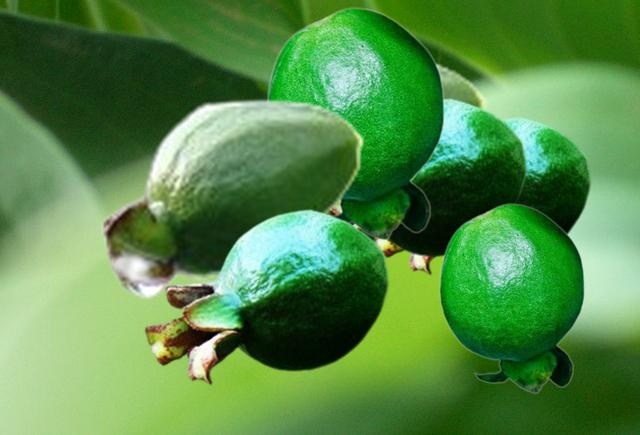guava: (101, 97, 364, 299), (144, 208, 388, 384), (265, 7, 444, 239), (376, 116, 590, 274), (330, 97, 526, 259), (438, 203, 584, 392), (264, 55, 487, 108)
